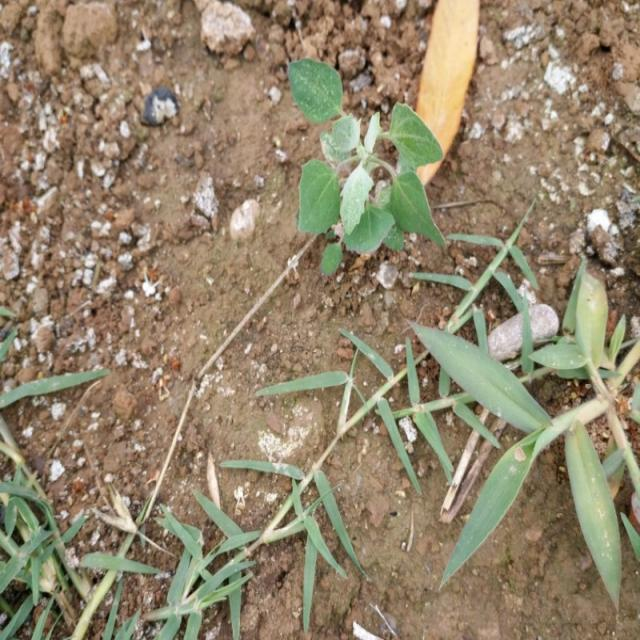ca: (288, 59, 448, 263)
